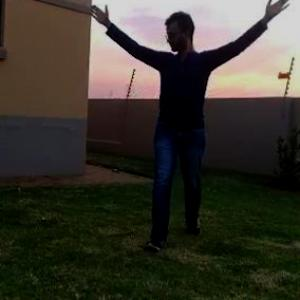takeoff: (77, 0, 299, 255)
